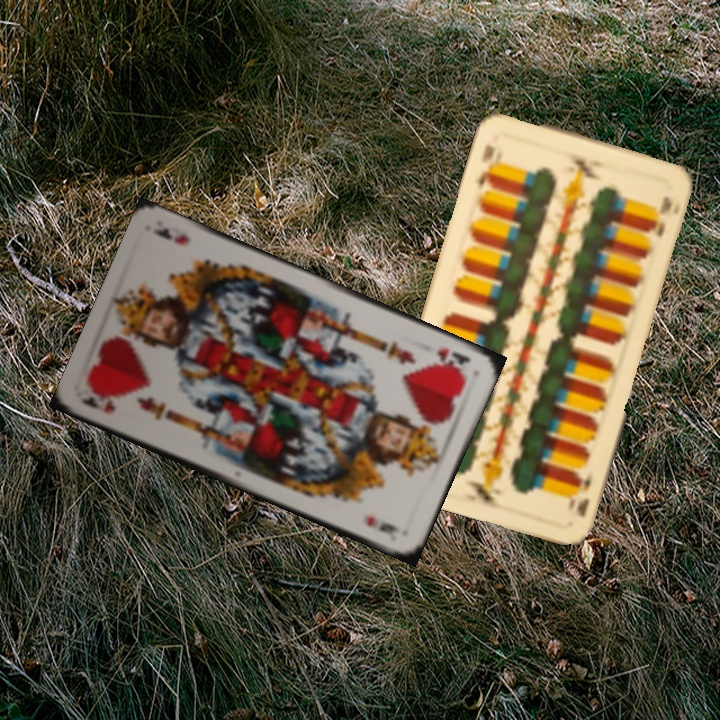E10: (564, 466, 595, 520), (473, 140, 497, 192)
HK: (433, 344, 474, 377), (78, 386, 119, 416)
